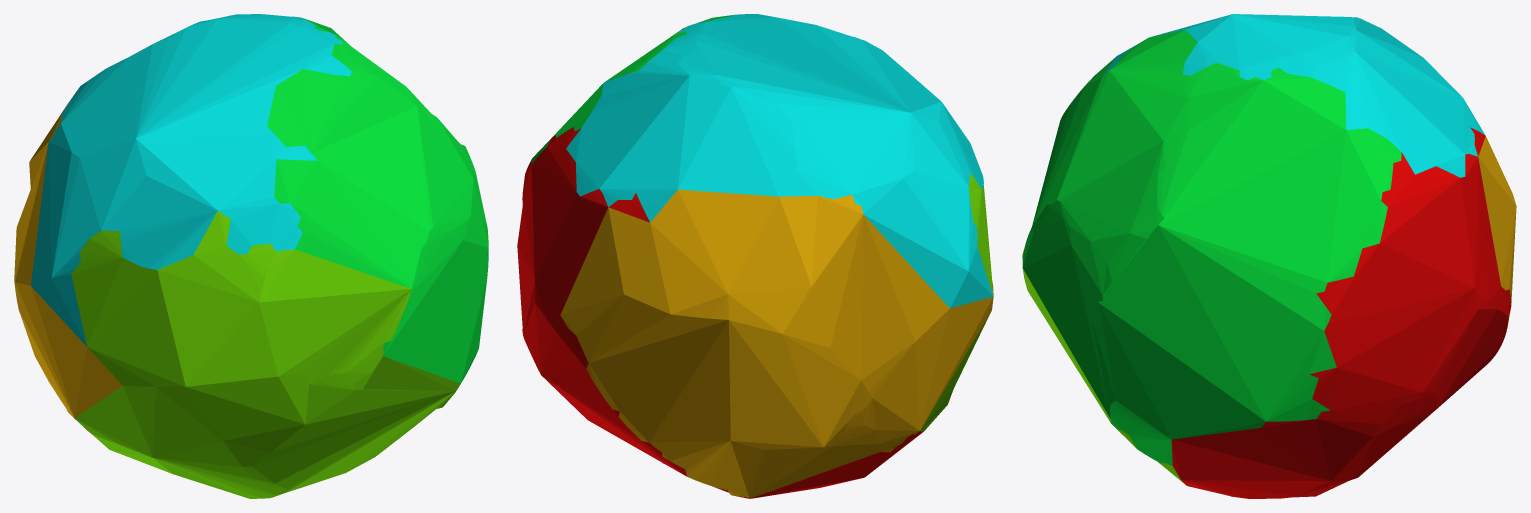
File: SphereH_L5.fbx
3 renders of one model, left to right at view 1: azimuth 30°, elevation 25°; view 2: azimuth 150°, elevation 25°; view 3: azimuth 270°, elevation 25°, orthographic. The views are drawn at different scales.
Size of the model in its own units: 1.98 by 1.96 by 1.98.
